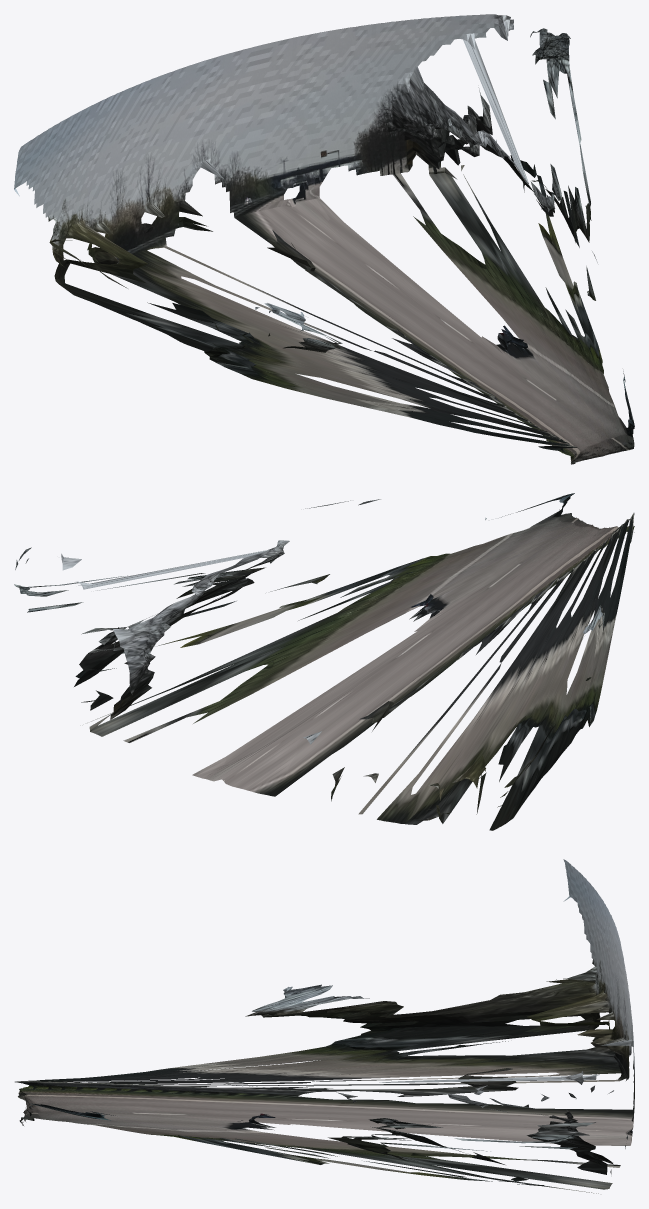
The picture shows the model from 3 angles, top to bottom: view 1: azimuth 30°, elevation 25°; view 2: azimuth 150°, elevation 25°; view 3: azimuth 270°, elevation 25°; orthographic projection. The views are drawn at different scales.
Visible parts, largest first — view 1: defaultobject; view 2: defaultobject; view 3: defaultobject.
Part boxes in pixels (x1,y1,x2,y2): defaultobject: (14, 14, 634, 464); defaultobject: (14, 493, 634, 830); defaultobject: (15, 859, 634, 1193).
Bounding box in the file's own units: 40.83 × 12.7 × 44.91.
Materials: 1 (1 with a texture image).
